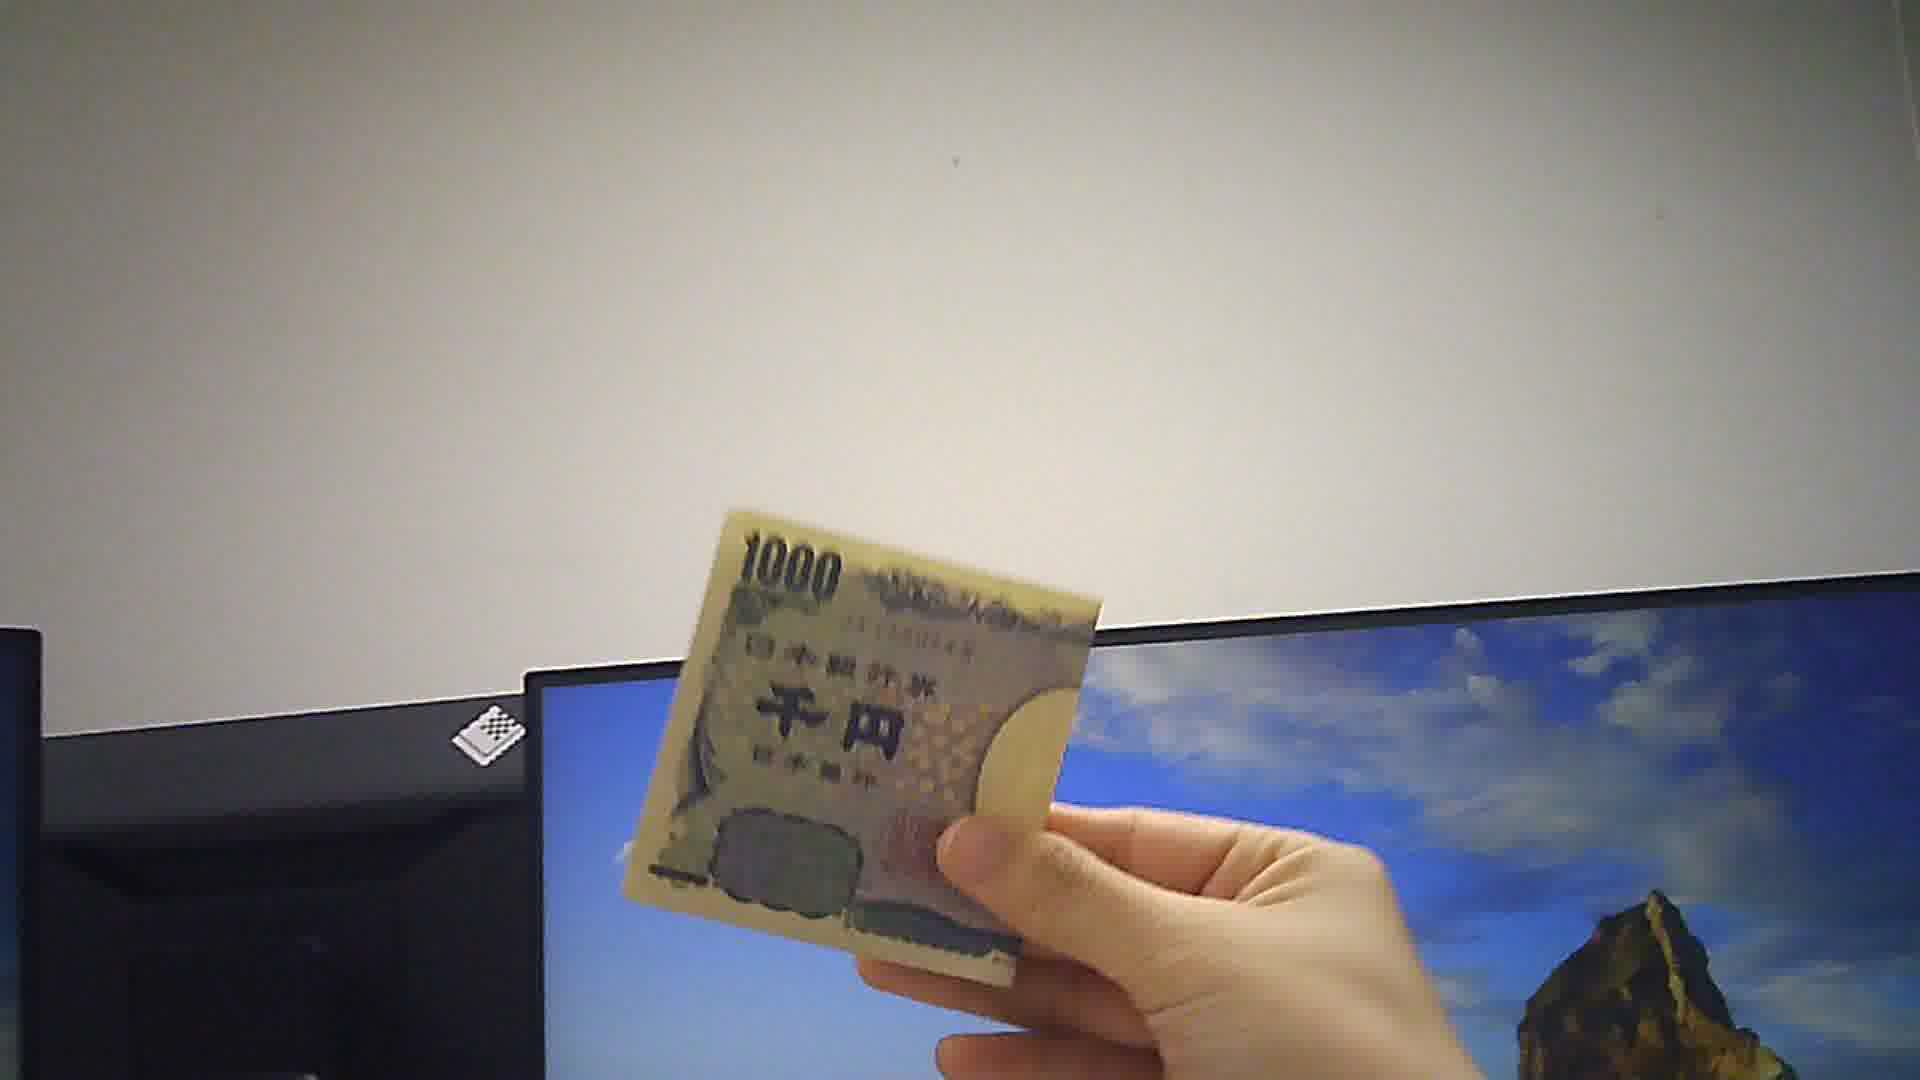1,000 Yen: (640, 506, 1131, 986)
